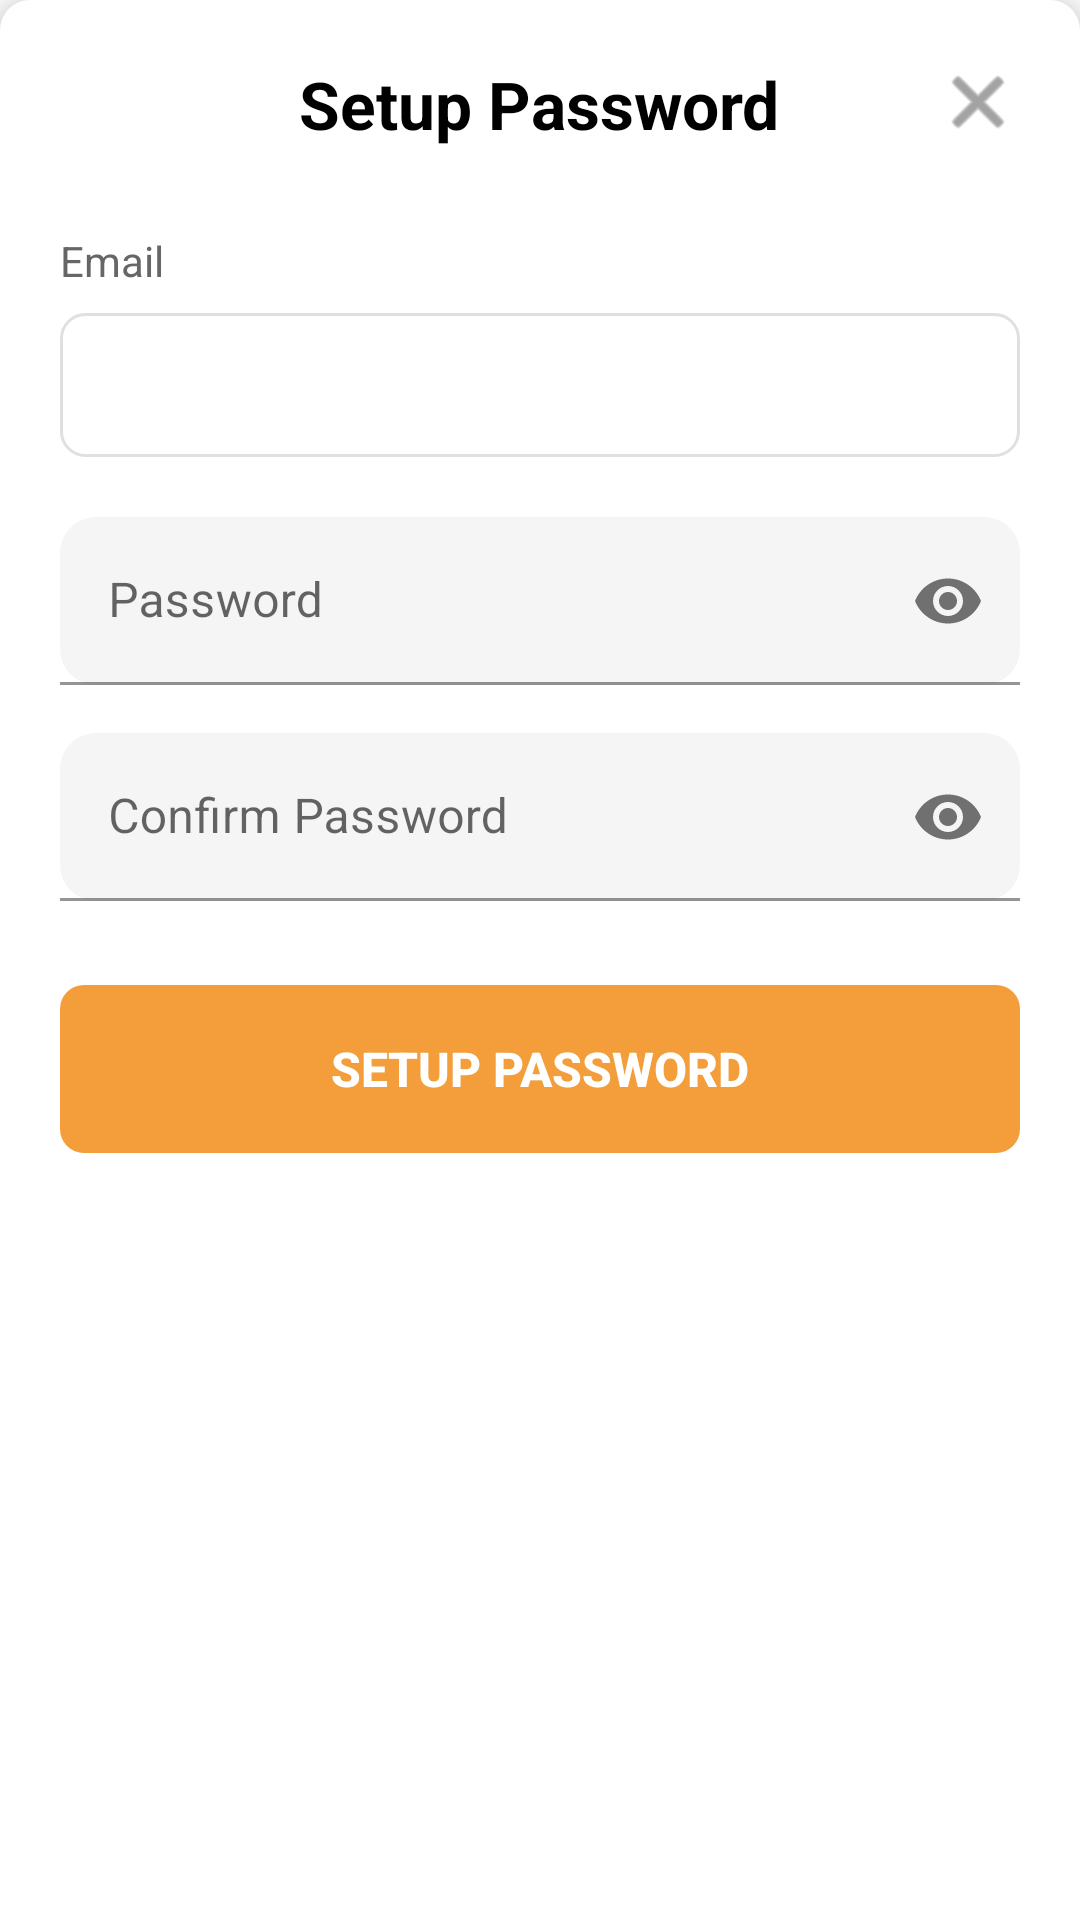

Named icons in this screenshot (1080*1920) and their centers, (x,y):
close clear cancel: (978,102)
